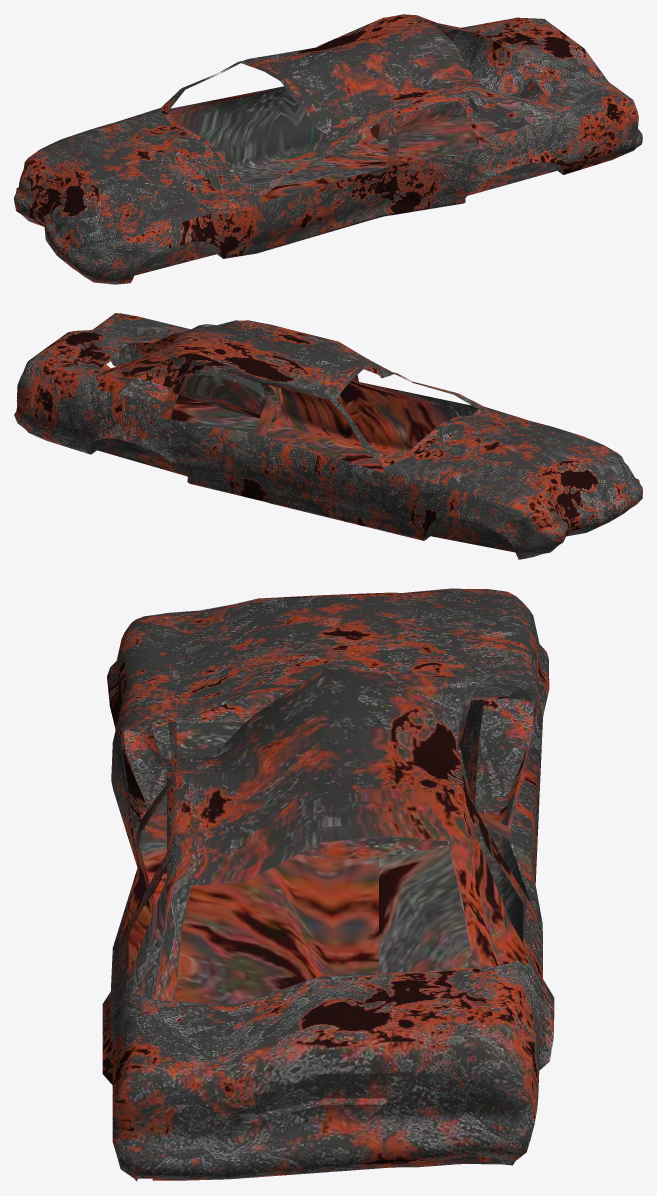
File: queimado.gltf
The picture shows the model from 3 angles, top to bottom: view 1: azimuth 30°, elevation 25°; view 2: azimuth 150°, elevation 25°; view 3: azimuth 270°, elevation 25°; orthographic projection. The views are drawn at different scales.
Visible parts, largest first — view 1: queimado; view 2: queimado; view 3: queimado.
Boxes of the visible parts, box(x1,y1,x2,y2) form: queimado: box(14, 14, 642, 284); queimado: box(14, 313, 642, 559); queimado: box(102, 588, 554, 1181).
Bounding box in the file's own units: 5.88 × 1.3 × 2.08.
Materials: 1 (1 with a texture image).
